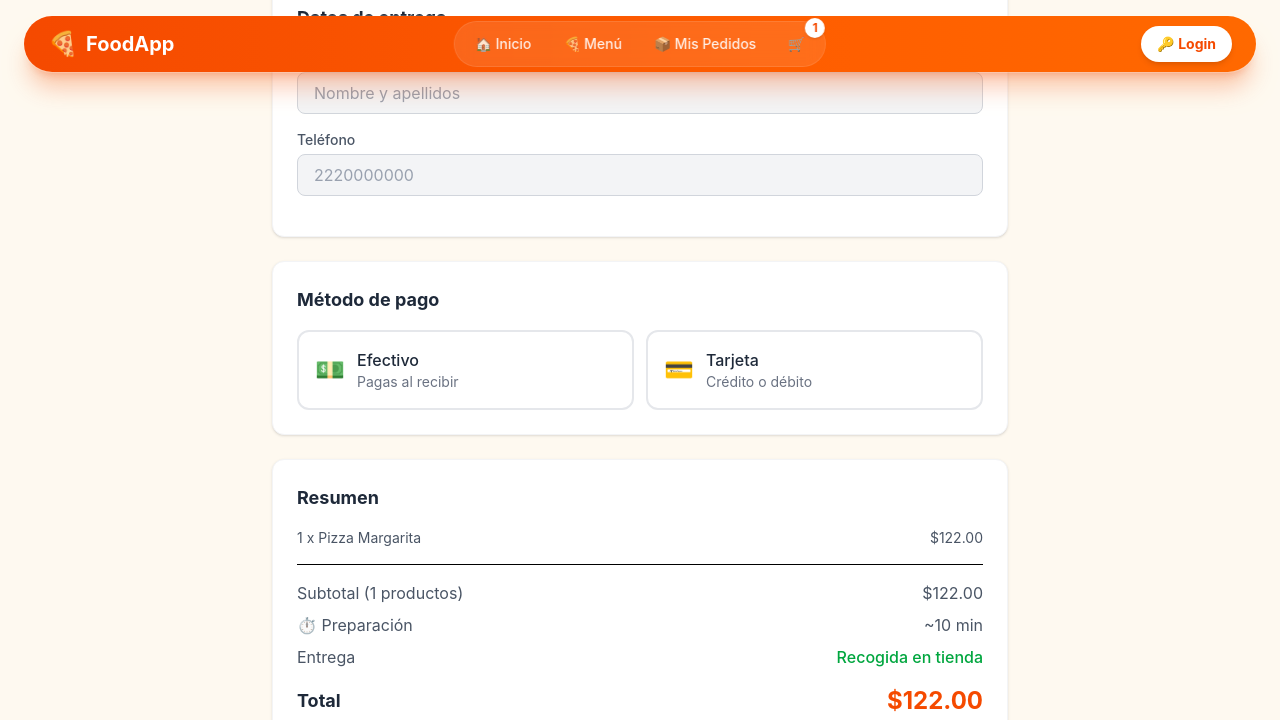
Test: CheckoutPage - selector de método de pago › muestra Efectivo y Tarjeta, y los campos aparecen al elegir Tarjeta
(page scrolled)
Expected: the text "Efectivo" is shown, 357,350 -> 419,370
Expected: the text "Número de tarjeta" is not shown
What coordinates should you click on to do the following:
click the text "Tarjeta"
I would click on:
 (732, 360)
Its box is 706,350 -> 759,370.
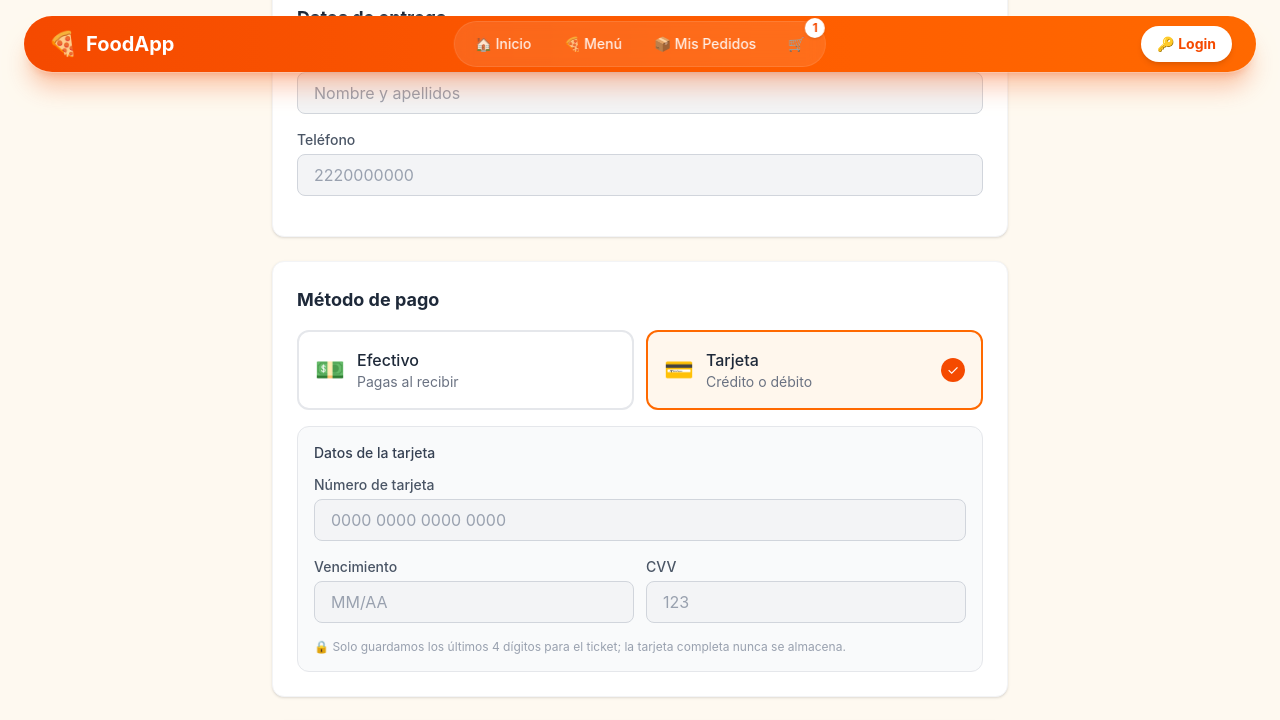
Expected: the text "Número de tarjeta" is shown, 314,476 -> 435,493
Expected: the text "Vencimiento" is shown, 314,558 -> 397,575
Expected: the text "CVV" is shown, 646,558 -> 676,575
